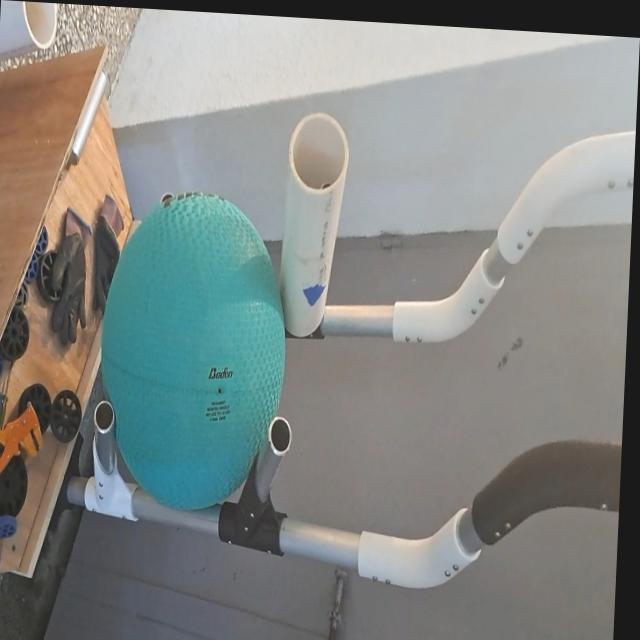ALGAE: (91, 184, 295, 523)
CORAL: (270, 105, 359, 342)
